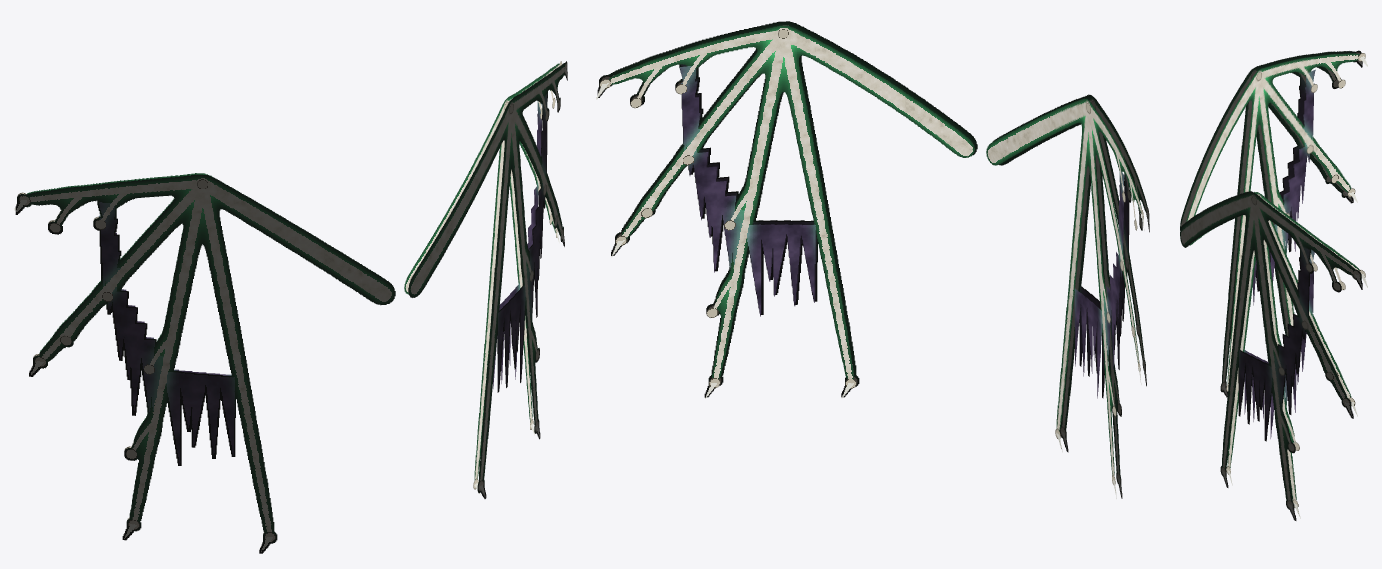
File: bone_reaper_wings.glb
3 renders of one model, left to right at view 1: azimuth 30°, elevation 25°; view 2: azimuth 150°, elevation 25°; view 3: azimuth 270°, elevation 25°, orthographic. The views are drawn at different scales.
Parts seen in each view (by area): view 1: Bone Reaper Wings Wing Right, Bone Reaper Wings Wing Left; view 2: Bone Reaper Wings Wing Left, Bone Reaper Wings Wing Right; view 3: Bone Reaper Wings Wing Left, Bone Reaper Wings Wing Right.
Part boxes in pixels (x1,y1,x2,y2): Bone Reaper Wings Wing Right: (14, 173, 395, 553); Bone Reaper Wings Wing Left: (404, 61, 567, 498); Bone Reaper Wings Wing Left: (596, 21, 977, 398); Bone Reaper Wings Wing Right: (986, 94, 1149, 498); Bone Reaper Wings Wing Left: (1180, 191, 1367, 520); Bone Reaper Wings Wing Right: (1180, 50, 1367, 397).
Bounding box in the file's own units: 2.3 × 1.53 × 0.8266.
2 materials, 2 textured.
